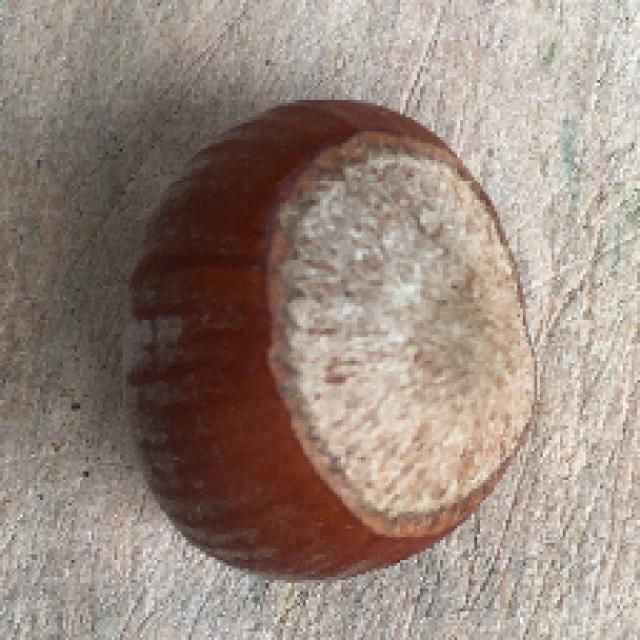qualityHazelnut: (114, 93, 541, 589)
